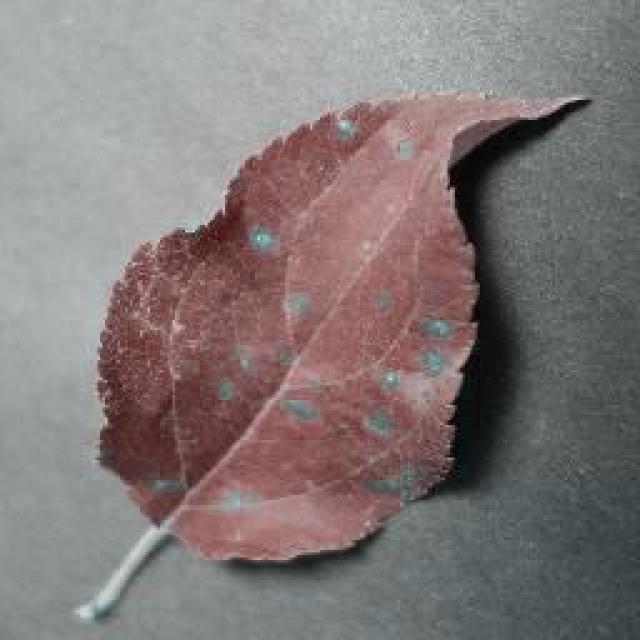apple scab disease: (85, 85, 593, 583)
